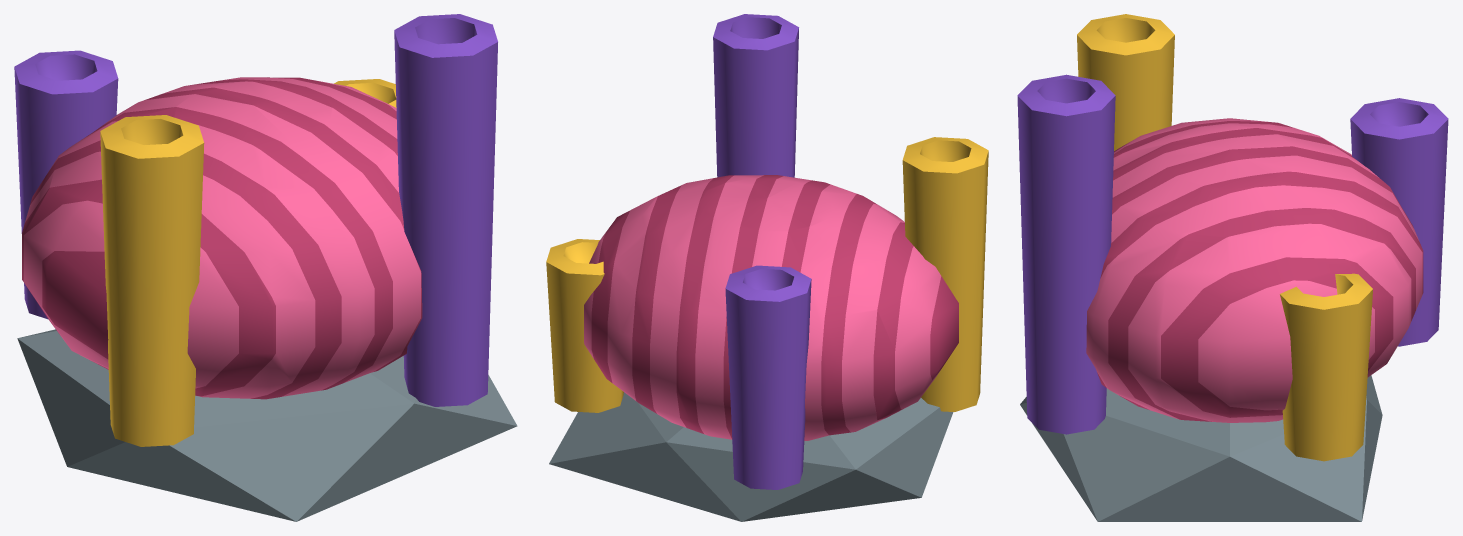
Rendered from W2_Coral_B.fbx.
The picture shows the model from 3 angles, left to right: view 1: azimuth 30°, elevation 25°; view 2: azimuth 150°, elevation 25°; view 3: azimuth 270°, elevation 25°; orthographic projection. The views are drawn at different scales.
Visible parts, largest first — view 1: W2_Coral_B; view 2: W2_Coral_B; view 3: W2_Coral_B.
Boxes of the visible parts, bbox=[...] form: W2_Coral_B: bbox=[14, 14, 517, 521]; W2_Coral_B: bbox=[546, 14, 988, 521]; W2_Coral_B: bbox=[1017, 14, 1448, 521].
Size of the model in its own units: 1.79 by 1.77 by 1.76.
